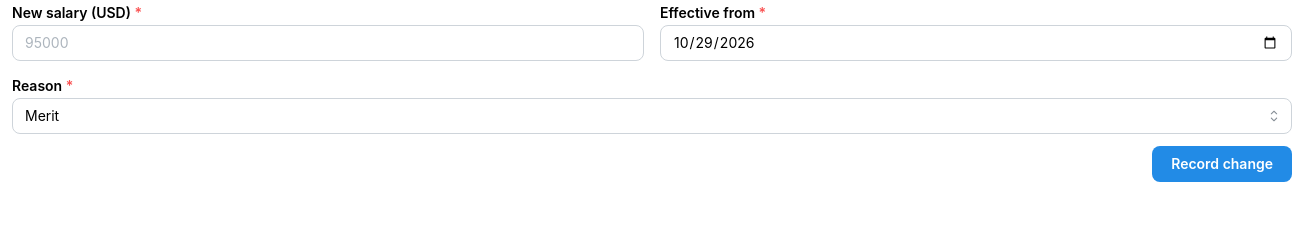
Test case: SalaryForm › amount parsing › previews what will be recorded
Type "120000" into the field labelled "New salary (USD) *" at (328, 43), box [12,25,644,61]
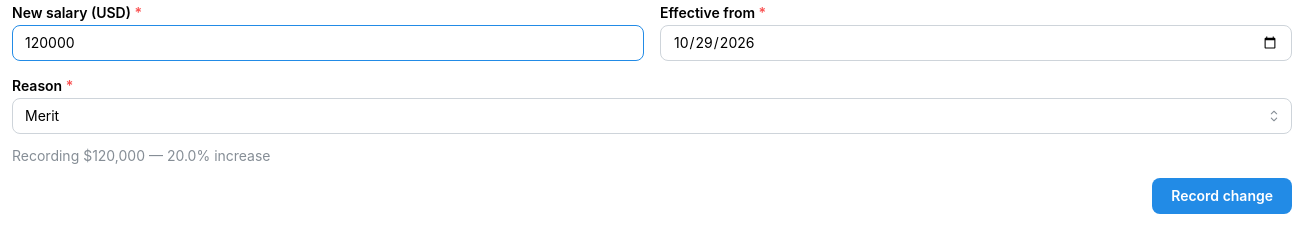
Expected: the text "Recording $120,000 — 20.0% increase" is shown, [12,147,270,164]
